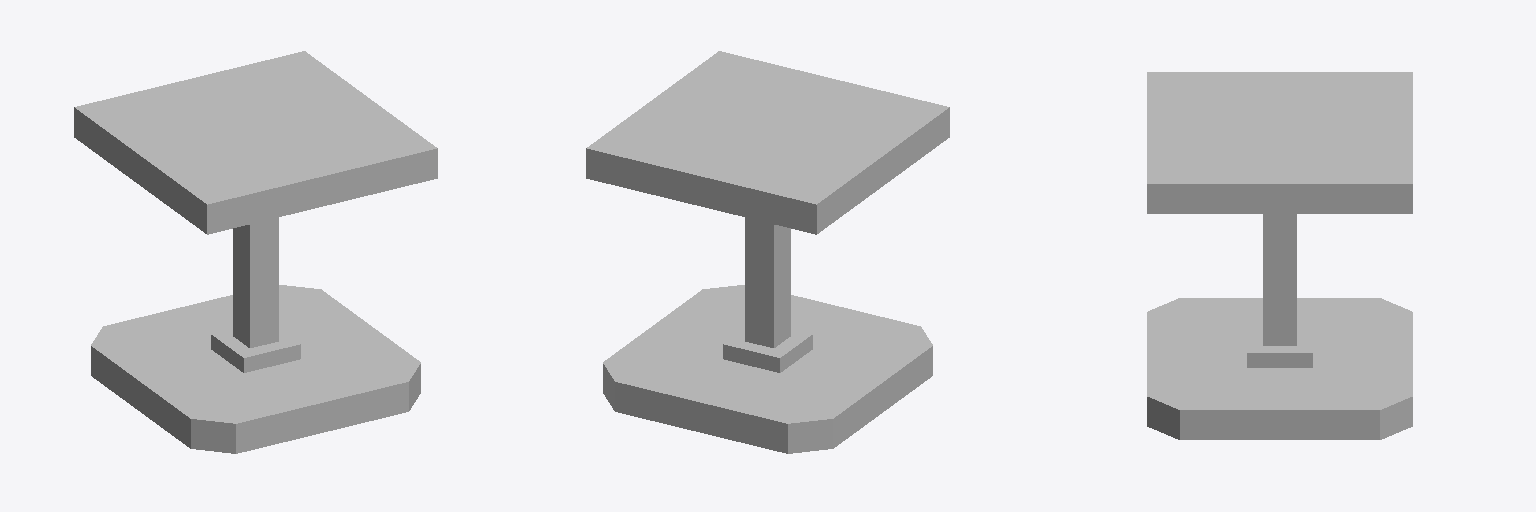
File: solar_mirror.obj
3 views of the same model, side by side, from view 1: azimuth 30°, elevation 25°; view 2: azimuth 150°, elevation 25°; view 3: azimuth 270°, elevation 25° (orthographic).
Parts seen in each view (by area): view 1: Base, Mirror; view 2: Base, Mirror; view 3: Base, Mirror.
Part boxes in pixels (left/top/right/bottom): Base: left=91, top=217, right=420, bottom=453; Mirror: left=74, top=51, right=437, bottom=234; Base: left=603, top=217, right=932, bottom=453; Mirror: left=586, top=51, right=949, bottom=234; Base: left=1147, top=214, right=1412, bottom=439; Mirror: left=1147, top=72, right=1412, bottom=213.
Bounding box in the file's own units: 1 × 1.06 × 1.